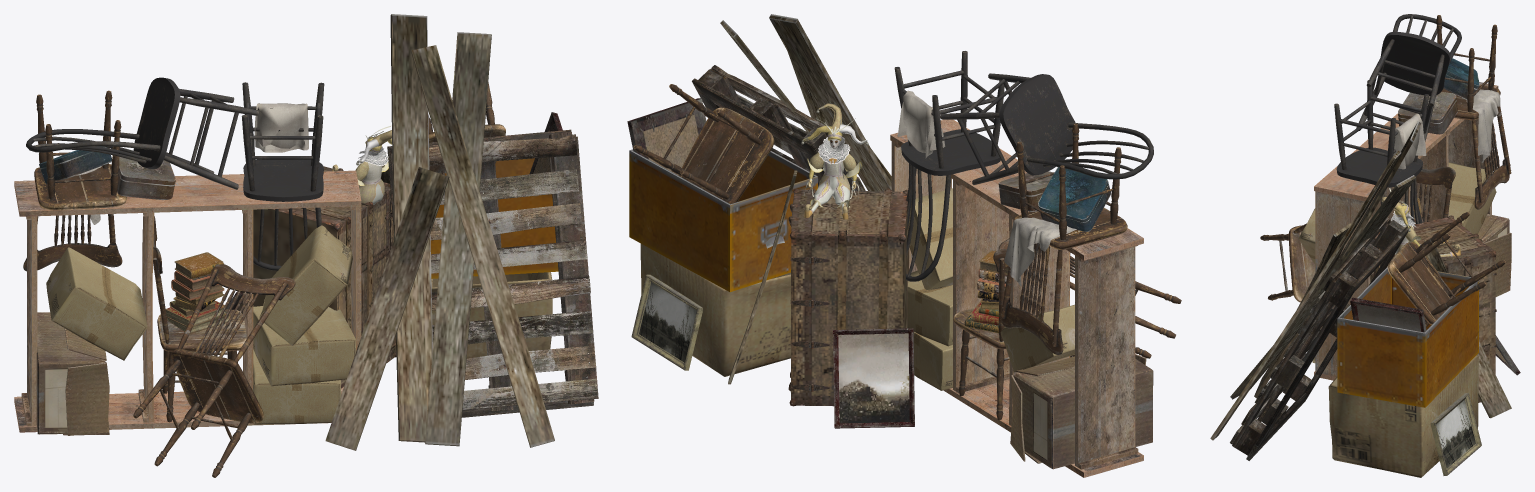
The model's file is sm39_148_rickerbarricade01a.fbx.
3 renders of one model, left to right at view 1: azimuth 30°, elevation 25°; view 2: azimuth 150°, elevation 25°; view 3: azimuth 270°, elevation 25°, orthographic. The views are drawn at different scales.
Parts seen in each view (by area): view 1: LOD_1_Group_0_Sub_7__sm26_005_WoodPanel01A_A_Mat, LOD_1_Group_0_Sub_8__sm26_003_Palette01A_A_Mat, LOD_1_Group_0_Sub_18__sm36_004_Cardboard03A_A_Mat, LOD_1_Group_0_Sub_9__sm30_012_OfficeChair01A_A_Mat, LOD_1_Group_0_Sub_1__sm30_106_WoodShelf01G_B_Mat, LOD_1_Group_0_Sub_6__sm30_115_cafeChair01A_A_Mat, LOD_1_Group_0_Sub_13__sm36_006_Cardboard05A_A_Mat, LOD_1_Group_0_Sub_10__sm26_004_WoodenBox01A_A_Mat, LOD_1_Group_0_Sub_17__sm32_035_CanBox01B_B_Mat, LOD_1_Group_0_Sub_19__sm36_001_BookSet01A_A_Mat, LOD_1_Group_0_Sub_16__sm36_053_Cardboard02D_A_Mat, LOD_1_Group_0_Sub_12__sm36_035_TableCloth03B_A_Mat1 (+3 smaller); view 2: LOD_1_Group_0_Sub_1__sm30_106_WoodShelf01G_B_Mat, LOD_1_Group_0_Sub_10__sm26_004_WoodenBox01A_A_Mat, LOD_1_Group_0_Sub_9__sm30_012_OfficeChair01A_A_Mat, LOD_1_Group_0_Sub_6__sm30_115_cafeChair01A_A_Mat, LOD_1_Group_0_Sub_16__sm36_053_Cardboard02D_A_Mat, LOD_1_Group_0_Sub_18__sm36_004_Cardboard03A_A_Mat, LOD_1_Group_0_Sub_15__sm36_002_Cardboard01A_A_Mat, LOD_1_Group_0_Sub_13__sm36_006_Cardboard05A_A_Mat, LOD_1_Group_0_Sub_7__sm26_005_WoodPanel01A_A_Mat, LOD_1_Group_0_Sub_3__sm32_018_PictureFrame02A_A_Mat, LOD_1_Group_0_Sub_8__sm26_003_Palette01A_A_Mat, LOD_1_Group_0_Sub_2__sm32_018_PictureFrame02A_B_Mat (+7 smaller); view 3: LOD_1_Group_0_Sub_16__sm36_053_Cardboard02D_A_Mat, LOD_1_Group_0_Sub_9__sm30_012_OfficeChair01A_A_Mat, LOD_1_Group_0_Sub_6__sm30_115_cafeChair01A_A_Mat, LOD_1_Group_0_Sub_8__sm26_003_Palette01A_A_Mat, LOD_1_Group_0_Sub_15__sm36_002_Cardboard01A_A_Mat, LOD_1_Group_0_Sub_1__sm30_106_WoodShelf01G_B_Mat, LOD_1_Group_0_Sub_7__sm26_005_WoodPanel01A_A_Mat, LOD_1_Group_0_Sub_10__sm26_004_WoodenBox01A_A_Mat, LOD_1_Group_0_Sub_18__sm36_004_Cardboard03A_A_Mat, LOD_1_Group_0_Sub_17__sm32_035_CanBox01B_B_Mat, LOD_1_Group_0_Sub_13__sm36_006_Cardboard05A_A_Mat, LOD_1_Group_0_Sub_4__sm32_013_PictureFrame01A_A_Mat (+6 smaller).
Part boxes in pixels (x1,y1,x2,y2): LOD_1_Group_0_Sub_7__sm26_005_WoodPanel01A_A_Mat: (325,14,554,450); LOD_1_Group_0_Sub_8__sm26_003_Palette01A_A_Mat: (387,129,598,417); LOD_1_Group_0_Sub_18__sm36_004_Cardboard03A_A_Mat: (46,225,356,424); LOD_1_Group_0_Sub_9__sm30_012_OfficeChair01A_A_Mat: (23,82,505,477); LOD_1_Group_0_Sub_1__sm30_106_WoodShelf01G_B_Mat: (14,170,361,432); LOD_1_Group_0_Sub_6__sm30_115_cafeChair01A_A_Mat: (26,77,324,270); LOD_1_Group_0_Sub_13__sm36_006_Cardboard05A_A_Mat: (36,312,109,435); LOD_1_Group_0_Sub_10__sm26_004_WoodenBox01A_A_Mat: (253,166,396,388); LOD_1_Group_0_Sub_17__sm32_035_CanBox01B_B_Mat: (39,146,175,200); LOD_1_Group_0_Sub_19__sm36_001_BookSet01A_A_Mat: (165,252,230,333); LOD_1_Group_0_Sub_16__sm36_053_Cardboard02D_A_Mat: (430,158,558,278); LOD_1_Group_0_Sub_12__sm36_035_TableCloth03B_A_Mat1: (254,103,308,152); LOD_1_Group_0_Sub_1__sm30_106_WoodShelf01G_B_Mat: (890,119,1143,477); LOD_1_Group_0_Sub_10__sm26_004_WoodenBox01A_A_Mat: (788,188,908,406); LOD_1_Group_0_Sub_9__sm30_012_OfficeChair01A_A_Mat: (633,84,1181,419); LOD_1_Group_0_Sub_6__sm30_115_cafeChair01A_A_Mat: (894,51,1153,281); LOD_1_Group_0_Sub_16__sm36_053_Cardboard02D_A_Mat: (629,149,817,292); LOD_1_Group_0_Sub_18__sm36_004_Cardboard03A_A_Mat: (907,188,1074,390); LOD_1_Group_0_Sub_15__sm36_002_Cardboard01A_A_Mat: (640,243,790,376); LOD_1_Group_0_Sub_13__sm36_006_Cardboard05A_A_Mat: (1010,347,1153,469); LOD_1_Group_0_Sub_7__sm26_005_WoodPanel01A_A_Mat: (720,14,891,384); LOD_1_Group_0_Sub_3__sm32_018_PictureFrame02A_A_Mat: (838,333,909,423); LOD_1_Group_0_Sub_8__sm26_003_Palette01A_A_Mat: (692,65,865,190); LOD_1_Group_0_Sub_2__sm32_018_PictureFrame02A_B_Mat: (627,98,914,428); LOD_1_Group_0_Sub_16__sm36_053_Cardboard02D_A_Mat: (1337,267,1478,407); LOD_1_Group_0_Sub_9__sm30_012_OfficeChair01A_A_Mat: (1260,15,1511,327); LOD_1_Group_0_Sub_6__sm30_115_cafeChair01A_A_Mat: (1334,14,1461,224); LOD_1_Group_0_Sub_8__sm26_003_Palette01A_A_Mat: (1230,217,1410,460); LOD_1_Group_0_Sub_15__sm36_002_Cardboard01A_A_Mat: (1328,355,1478,477); LOD_1_Group_0_Sub_1__sm30_106_WoodShelf01G_B_Mat: (1314,82,1498,380); LOD_1_Group_0_Sub_7__sm26_005_WoodPanel01A_A_Mat: (1210,121,1511,440); LOD_1_Group_0_Sub_10__sm26_004_WoodenBox01A_A_Mat: (1370,215,1496,402); LOD_1_Group_0_Sub_18__sm36_004_Cardboard03A_A_Mat: (1298,162,1496,363); LOD_1_Group_0_Sub_17__sm32_035_CanBox01B_B_Mat: (1398,58,1479,134); LOD_1_Group_0_Sub_13__sm36_006_Cardboard05A_A_Mat: (1478,214,1511,296); LOD_1_Group_0_Sub_4__sm32_013_PictureFrame01A_A_Mat: (1436,400,1475,468).
Size of the model in its own units: 3.36 by 2.17 by 2.
